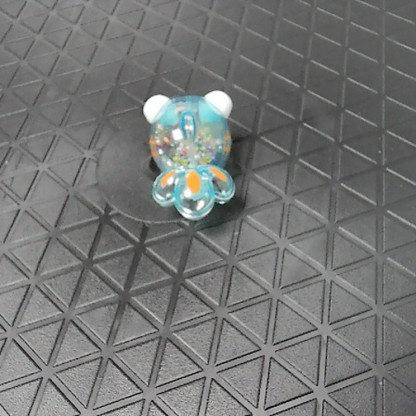bluefish: (138, 89, 238, 222)
